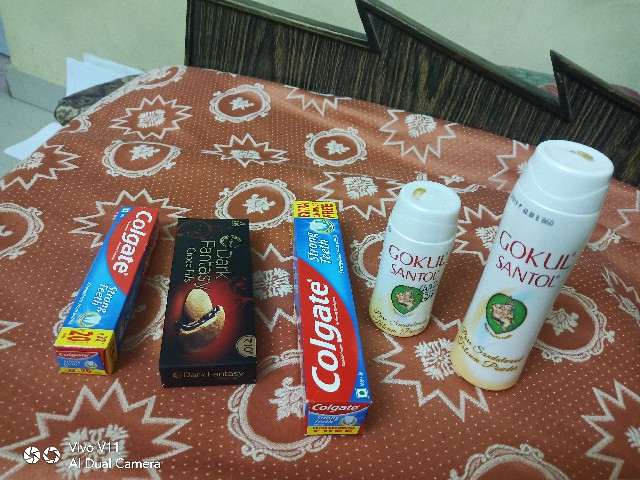colgatetoothpaste big: (288, 173, 380, 446)
colgatetoothpaste small: (50, 150, 158, 406)
darkfantasy small: (161, 193, 262, 407)
gokulsantol big: (457, 98, 614, 427)
gokulsantol small: (367, 149, 460, 362)
